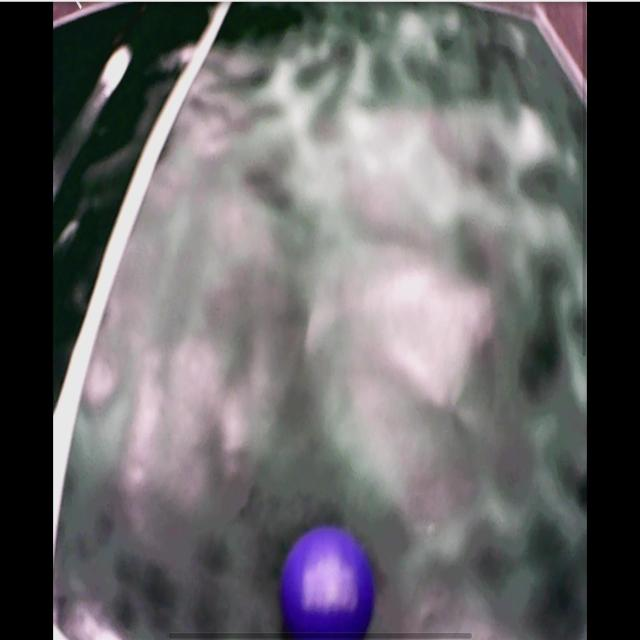ball: (284, 529, 375, 640)
